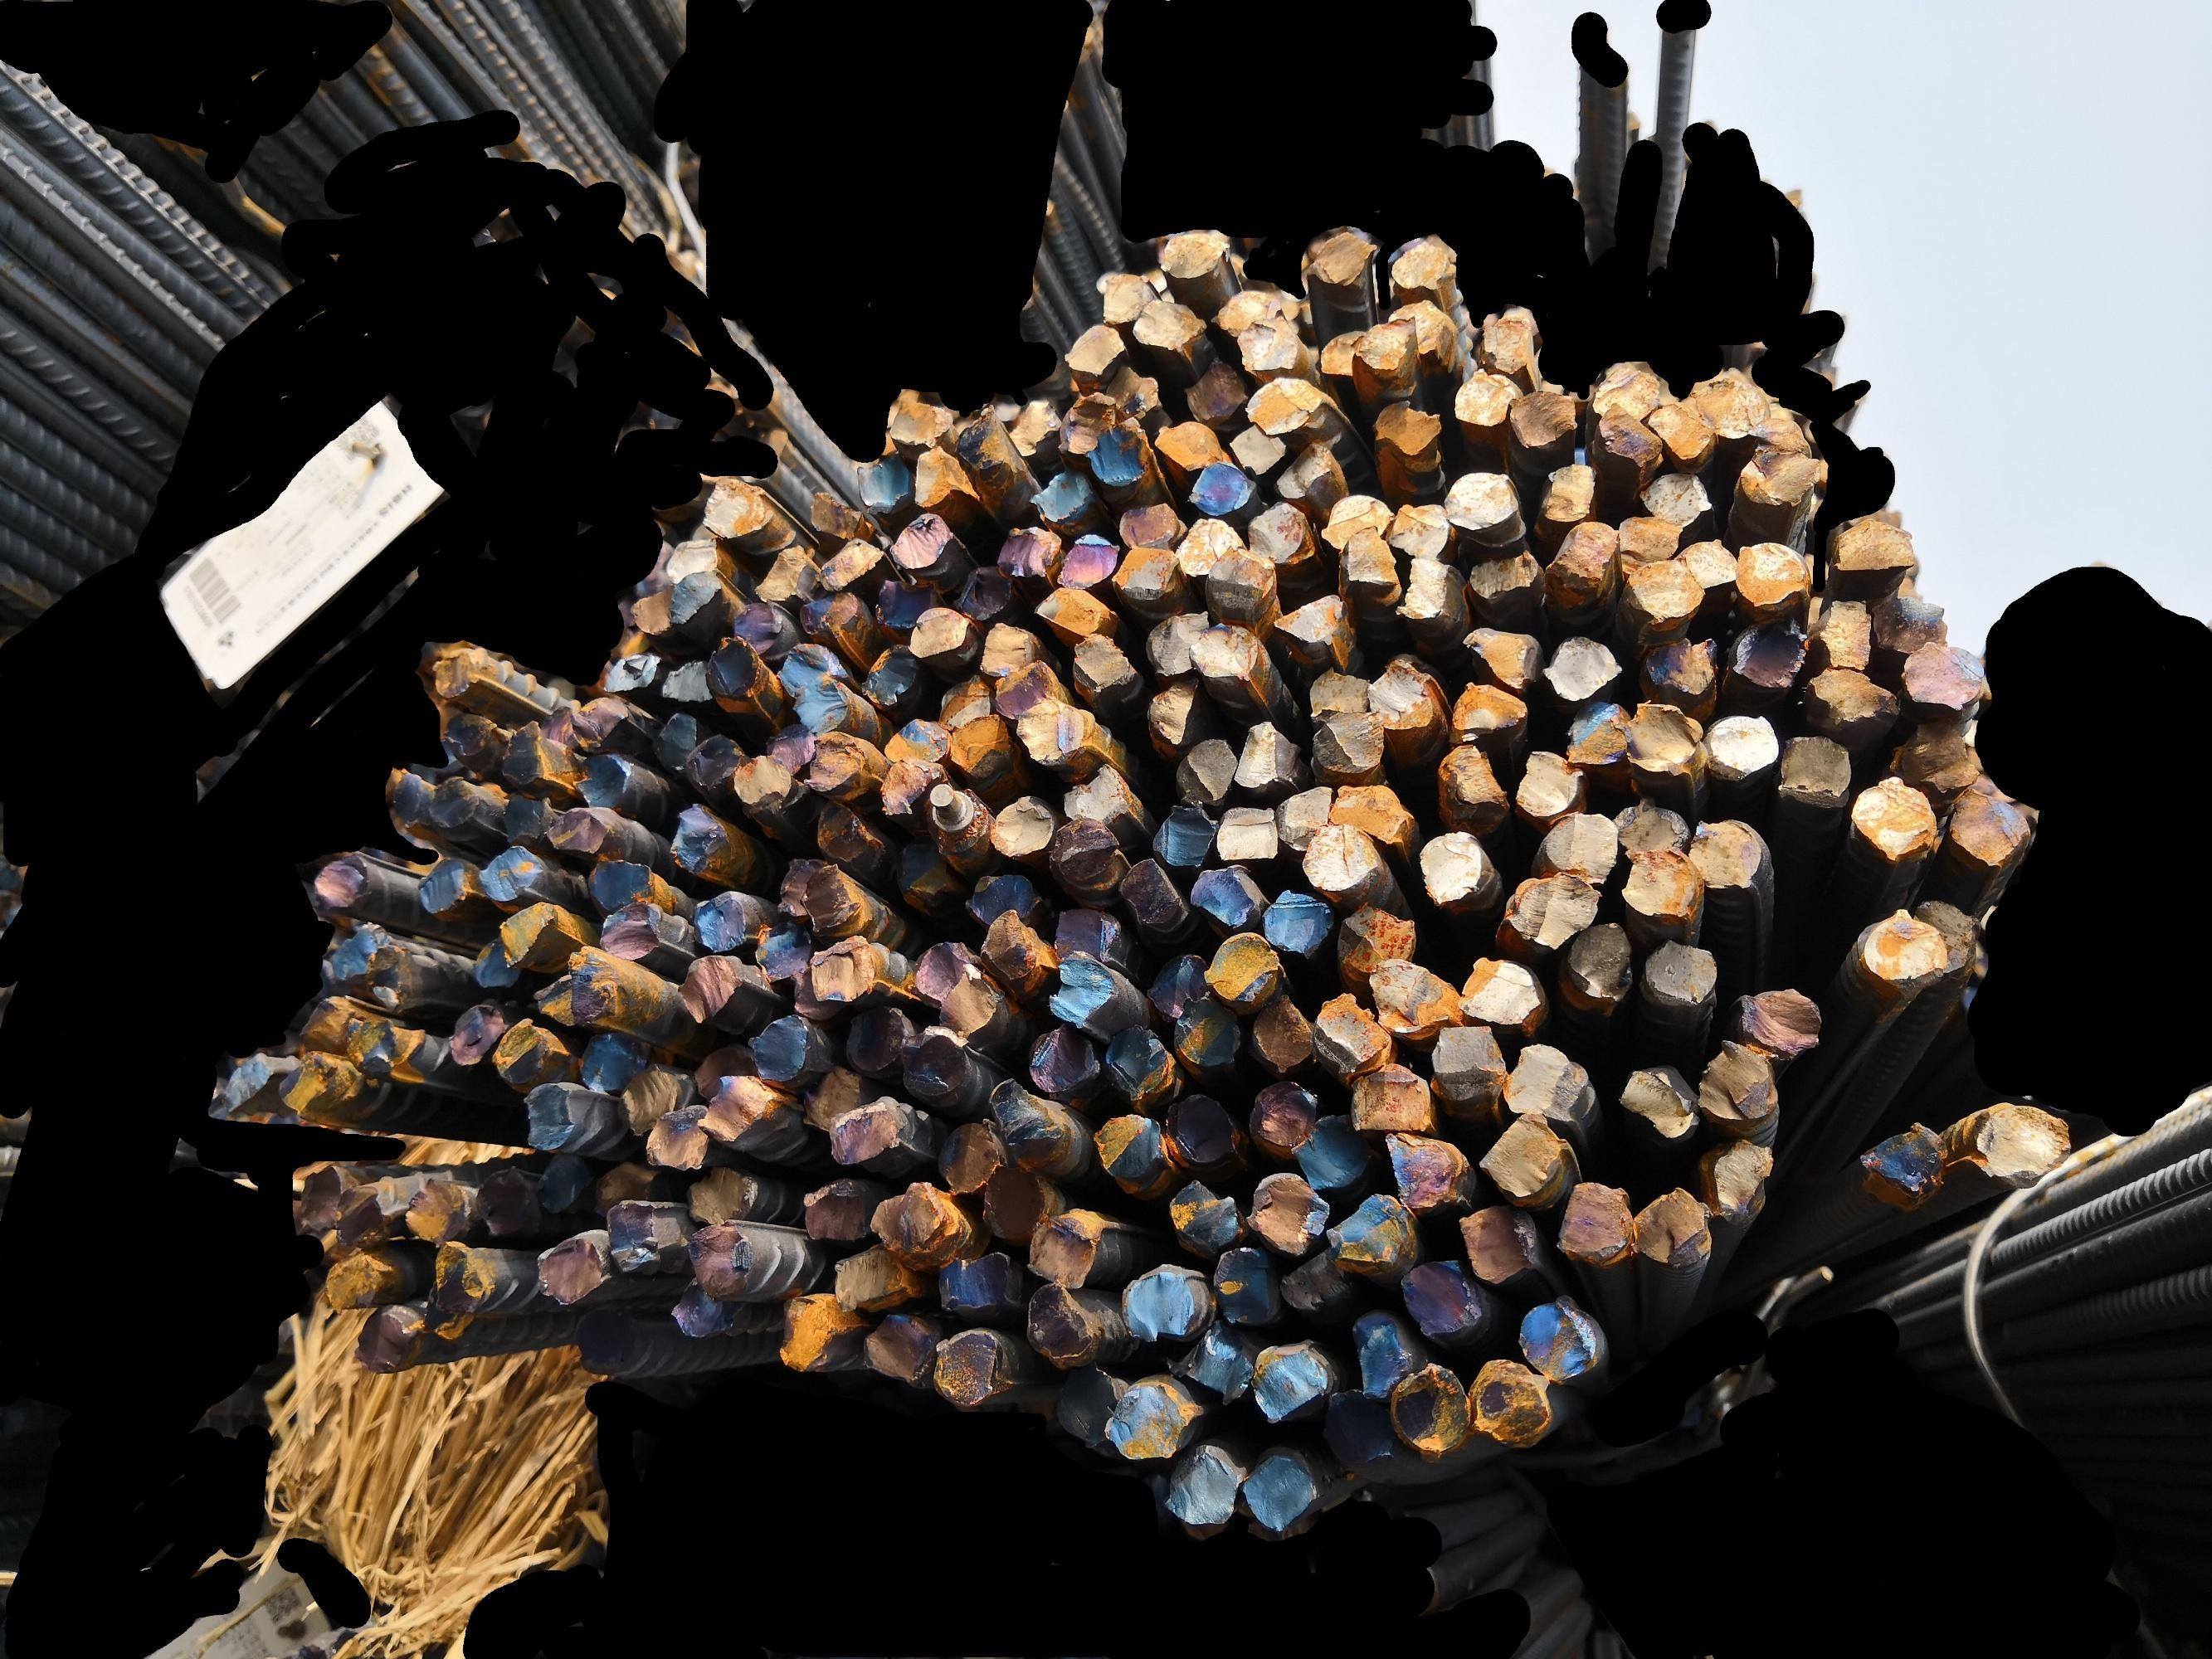bar: (1961, 1096, 2075, 1187), (1858, 1117, 1955, 1209), (1848, 905, 1947, 990), (1478, 1112, 1572, 1198), (1388, 1364, 1470, 1461), (989, 1077, 1072, 1172), (1849, 773, 1938, 861), (1516, 1292, 1603, 1383), (1498, 872, 1601, 946), (1324, 1190, 1415, 1272), (1502, 1040, 1592, 1123), (1940, 787, 2031, 869), (870, 1177, 957, 1263), (1470, 1355, 1551, 1447), (1102, 1382, 1194, 1462), (777, 1290, 860, 1376), (1160, 1441, 1245, 1525), (1245, 1168, 1329, 1253), (1698, 1039, 1781, 1124), (1688, 815, 1772, 899), (1382, 1130, 1467, 1211), (1630, 1184, 1711, 1269), (1456, 953, 1549, 1027), (1251, 1335, 1328, 1425), (1562, 920, 1635, 1014), (1889, 720, 1984, 791), (1240, 1446, 1318, 1531), (1626, 696, 1703, 782), (1167, 1328, 1252, 1406), (1698, 1136, 1776, 1221), (1313, 990, 1390, 1075), (1734, 984, 1824, 1057), (1026, 1282, 1101, 1369), (1616, 1062, 1698, 1141), (1292, 1116, 1375, 1194), (1554, 1178, 1630, 1263), (1456, 1205, 1538, 1283), (933, 1324, 1009, 1408), (1435, 742, 1511, 826), (1368, 960, 1454, 1034), (1398, 1258, 1479, 1336), (1897, 641, 1986, 712), (1120, 1264, 1201, 1342), (1026, 1207, 1103, 1287), (1046, 949, 1123, 1030), (1547, 519, 1618, 607), (1347, 1063, 1434, 1133), (1640, 937, 1719, 1013), (1621, 847, 1702, 922), (1908, 897, 1984, 977), (684, 1217, 758, 1299), (1321, 1387, 1395, 1469), (1731, 441, 1822, 507), (1534, 811, 1618, 883), (1417, 829, 1493, 907), (696, 1072, 779, 1143), (1163, 1093, 1241, 1169), (1202, 928, 1280, 1004), (1213, 1243, 1284, 1326), (1726, 615, 1803, 691), (979, 907, 1044, 997), (936, 1251, 1019, 1321), (1089, 1110, 1167, 1184), (1703, 708, 1779, 783), (1776, 733, 1853, 808), (566, 943, 631, 1031), (1301, 822, 1380, 894), (1334, 905, 1419, 972), (1541, 631, 1624, 699), (828, 1094, 904, 1168), (898, 1024, 968, 1104), (1166, 1177, 1245, 1248), (1350, 1309, 1413, 1398), (1735, 539, 1811, 612), (1206, 545, 1278, 622), (1808, 665, 1898, 727), (1460, 625, 1541, 693), (1636, 635, 1718, 702), (1622, 557, 1704, 625), (1047, 818, 1122, 892), (278, 1050, 355, 1121), (861, 1310, 933, 1387), (1830, 518, 1917, 581), (1026, 1026, 1100, 1100), (534, 1232, 608, 1305), (1054, 1360, 1117, 1447), (1330, 784, 1415, 848), (1511, 747, 1586, 820), (1366, 659, 1436, 735), (1016, 698, 1094, 766), (1259, 886, 1333, 958), (1269, 591, 1355, 654), (1105, 1024, 1172, 1103), (833, 1245, 913, 1311), (1242, 372, 1324, 436), (980, 1163, 1046, 1242), (1430, 1024, 1505, 1094), (1249, 994, 1313, 1073), (1442, 468, 1520, 533), (1172, 996, 1241, 1070), (1118, 857, 1184, 934), (1632, 469, 1717, 529), (1385, 296, 1458, 365), (341, 1015, 415, 1083), (1691, 377, 1771, 440), (601, 1195, 661, 1277), (808, 932, 878, 1004), (1144, 951, 1214, 1022), (1464, 547, 1543, 611), (1561, 698, 1629, 771), (1060, 761, 1134, 827), (1311, 711, 1386, 777), (1189, 622, 1265, 687), (674, 954, 743, 1025), (1334, 524, 1396, 603), (743, 1011, 811, 1083), (799, 1174, 872, 1240), (937, 964, 998, 1043), (1449, 679, 1529, 739), (1233, 720, 1298, 793), (953, 402, 1011, 484), (1131, 297, 1206, 360), (1646, 400, 1717, 467), (683, 1162, 757, 1226), (1245, 1079, 1318, 1144), (403, 1172, 467, 1245), (1050, 902, 1123, 966), (1278, 1249, 1352, 1312), (1088, 418, 1150, 493), (494, 899, 559, 970), (1610, 796, 1688, 855), (1400, 555, 1461, 630), (699, 475, 769, 541), (909, 445, 979, 511), (948, 711, 1012, 781), (1056, 392, 1127, 456), (1593, 402, 1664, 467), (615, 1063, 678, 1135), (937, 1117, 997, 1192), (803, 731, 871, 797), (489, 1015, 553, 1086), (578, 1030, 650, 1092), (774, 640, 851, 698), (1370, 397, 1444, 457), (1812, 596, 1873, 670), (644, 1103, 710, 1170), (1614, 511, 1682, 577), (363, 941, 421, 1016), (1071, 631, 1134, 702), (1147, 803, 1217, 866), (1301, 230, 1377, 288), (879, 757, 946, 824), (1351, 314, 1415, 382), (1188, 864, 1256, 929), (669, 800, 728, 874), (297, 989, 360, 1058), (1873, 595, 1948, 653), (845, 1003, 906, 1074), (889, 510, 957, 573), (923, 785, 987, 854), (1174, 513, 1243, 577), (1318, 489, 1393, 547), (1449, 368, 1523, 427), (990, 793, 1054, 860), (572, 1310, 640, 1373), (433, 1241, 494, 1311), (1172, 739, 1236, 805), (582, 854, 655, 912), (911, 937, 972, 1005), (1273, 784, 1334, 853), (1025, 465, 1094, 525), (692, 1036, 757, 1101), (1143, 608, 1207, 674), (1245, 499, 1311, 562), (894, 839, 955, 907), (322, 1248, 387, 1311), (328, 919, 394, 981), (859, 641, 920, 708), (1508, 388, 1576, 449), (1270, 442, 1341, 500), (522, 1079, 579, 1151), (1181, 359, 1245, 422), (309, 849, 371, 914), (1158, 231, 1234, 285), (797, 586, 866, 645), (1588, 366, 1662, 421), (354, 1306, 411, 1377), (591, 1161, 662, 1218), (965, 872, 1043, 923), (474, 1165, 530, 1235), (704, 635, 761, 705), (597, 900, 663, 961), (802, 1063, 860, 1131), (1034, 586, 1114, 635), (1108, 546, 1178, 601), (1387, 502, 1453, 562), (1214, 803, 1279, 863), (799, 862, 855, 931), (817, 536, 886, 592), (1234, 316, 1303, 372), (334, 1181, 393, 1247), (415, 855, 474, 921), (446, 1000, 504, 1067), (748, 543, 811, 603), (816, 800, 875, 864), (1056, 528, 1120, 588), (1390, 238, 1455, 296), (1152, 419, 1229, 469), (670, 1278, 732, 1340), (477, 844, 539, 905), (1537, 461, 1597, 524), (752, 918, 811, 982), (691, 887, 748, 952), (1475, 314, 1534, 377), (790, 674, 855, 732), (1144, 678, 1201, 743), (1186, 460, 1255, 514), (730, 752, 790, 814), (573, 752, 638, 808), (220, 1048, 275, 1113), (534, 1151, 592, 1214), (856, 450, 913, 513), (996, 523, 1060, 579), (1060, 321, 1125, 375), (994, 658, 1053, 717), (496, 718, 546, 787), (571, 693, 631, 752), (952, 562, 1013, 619), (297, 1159, 342, 1236), (908, 605, 972, 658), (881, 716, 950, 766), (430, 645, 489, 702), (547, 805, 611, 856), (684, 732, 741, 791), (426, 773, 479, 836), (1304, 665, 1369, 716), (670, 568, 723, 630), (776, 854, 826, 917), (1675, 538, 1737, 590), (978, 620, 1037, 674), (876, 576, 936, 629), (888, 398, 954, 445), (1106, 363, 1162, 419), (1227, 421, 1287, 474), (806, 489, 867, 541), (1211, 287, 1283, 330), (936, 674, 992, 730), (731, 596, 779, 659), (790, 963, 845, 1019), (760, 720, 816, 774), (421, 1282, 474, 1340), (1006, 397, 1056, 457), (500, 792, 555, 846), (442, 712, 499, 763), (1116, 501, 1179, 547), (652, 710, 697, 774), (468, 933, 519, 989), (1100, 270, 1152, 326), (1315, 324, 1364, 381), (630, 584, 678, 638), (663, 536, 719, 581), (604, 650, 662, 693), (1747, 414, 1811, 453), (532, 971, 575, 1027), (660, 659, 712, 703), (391, 768, 425, 830), (539, 704, 579, 752)
